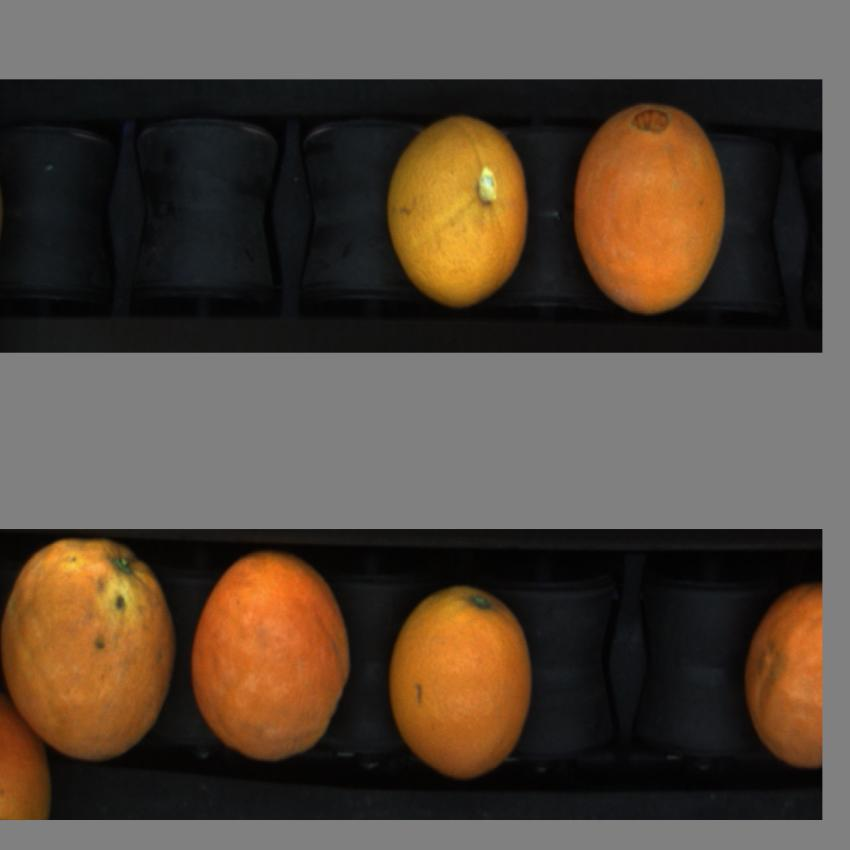Buen estado: (569, 100, 732, 318), (384, 582, 538, 781), (383, 113, 532, 315), (0, 695, 59, 814)
Mal estado: (1, 537, 181, 763), (184, 547, 356, 768), (737, 574, 824, 785)
